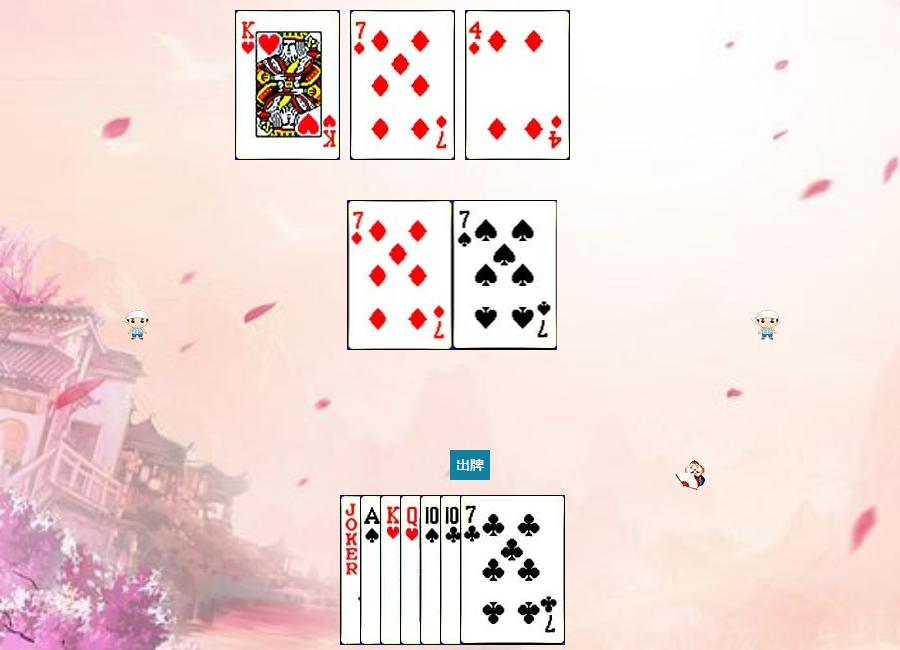10~2: (440, 495, 545, 645)
10~4: (420, 495, 525, 645)
12~3: (400, 495, 505, 645)
13~3: (235, 10, 340, 160), (380, 495, 485, 645)
14~4: (360, 495, 465, 645)
18~4: (340, 495, 445, 645)
4~1: (465, 10, 570, 160)
7~1: (350, 10, 455, 160), (348, 200, 453, 350)
7~2: (460, 495, 565, 645)
7~4: (453, 200, 558, 350)
